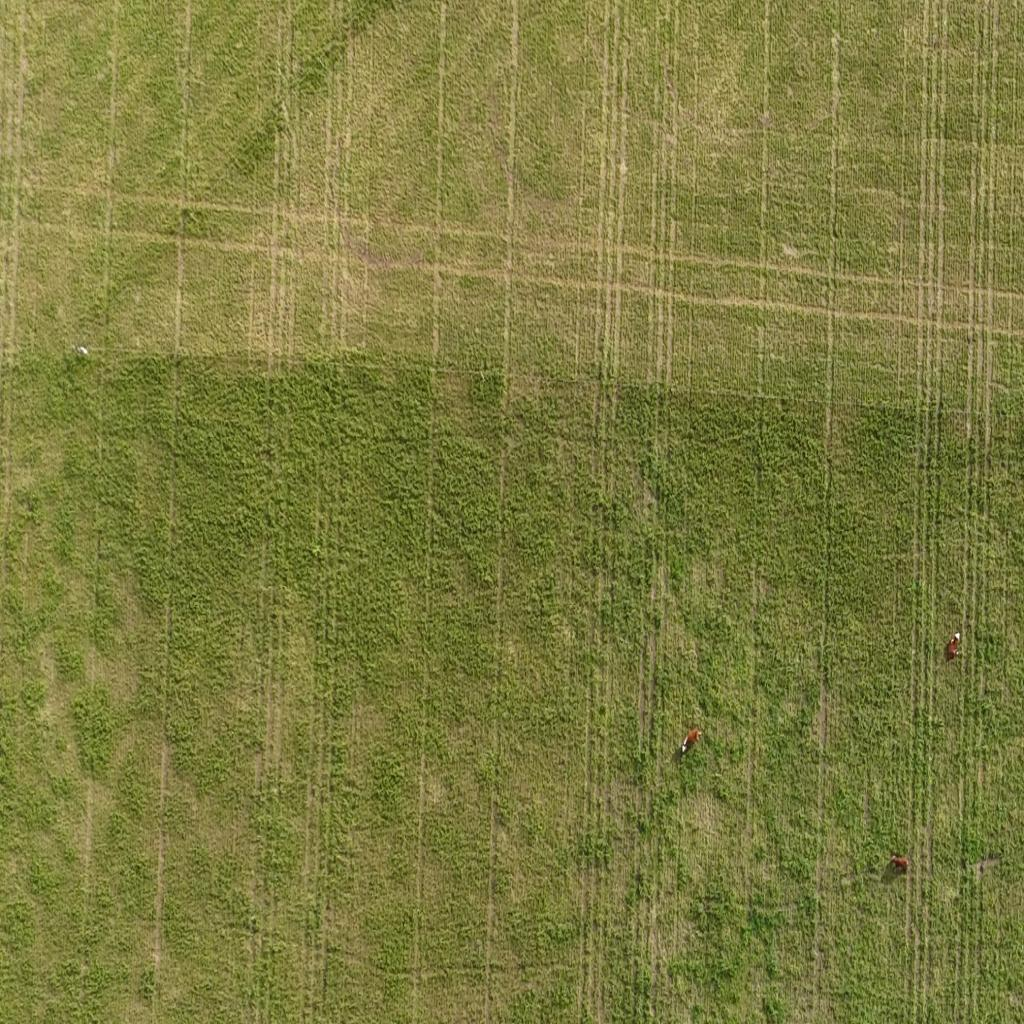cow: (682, 725, 704, 757), (889, 854, 910, 874), (946, 636, 961, 662)
